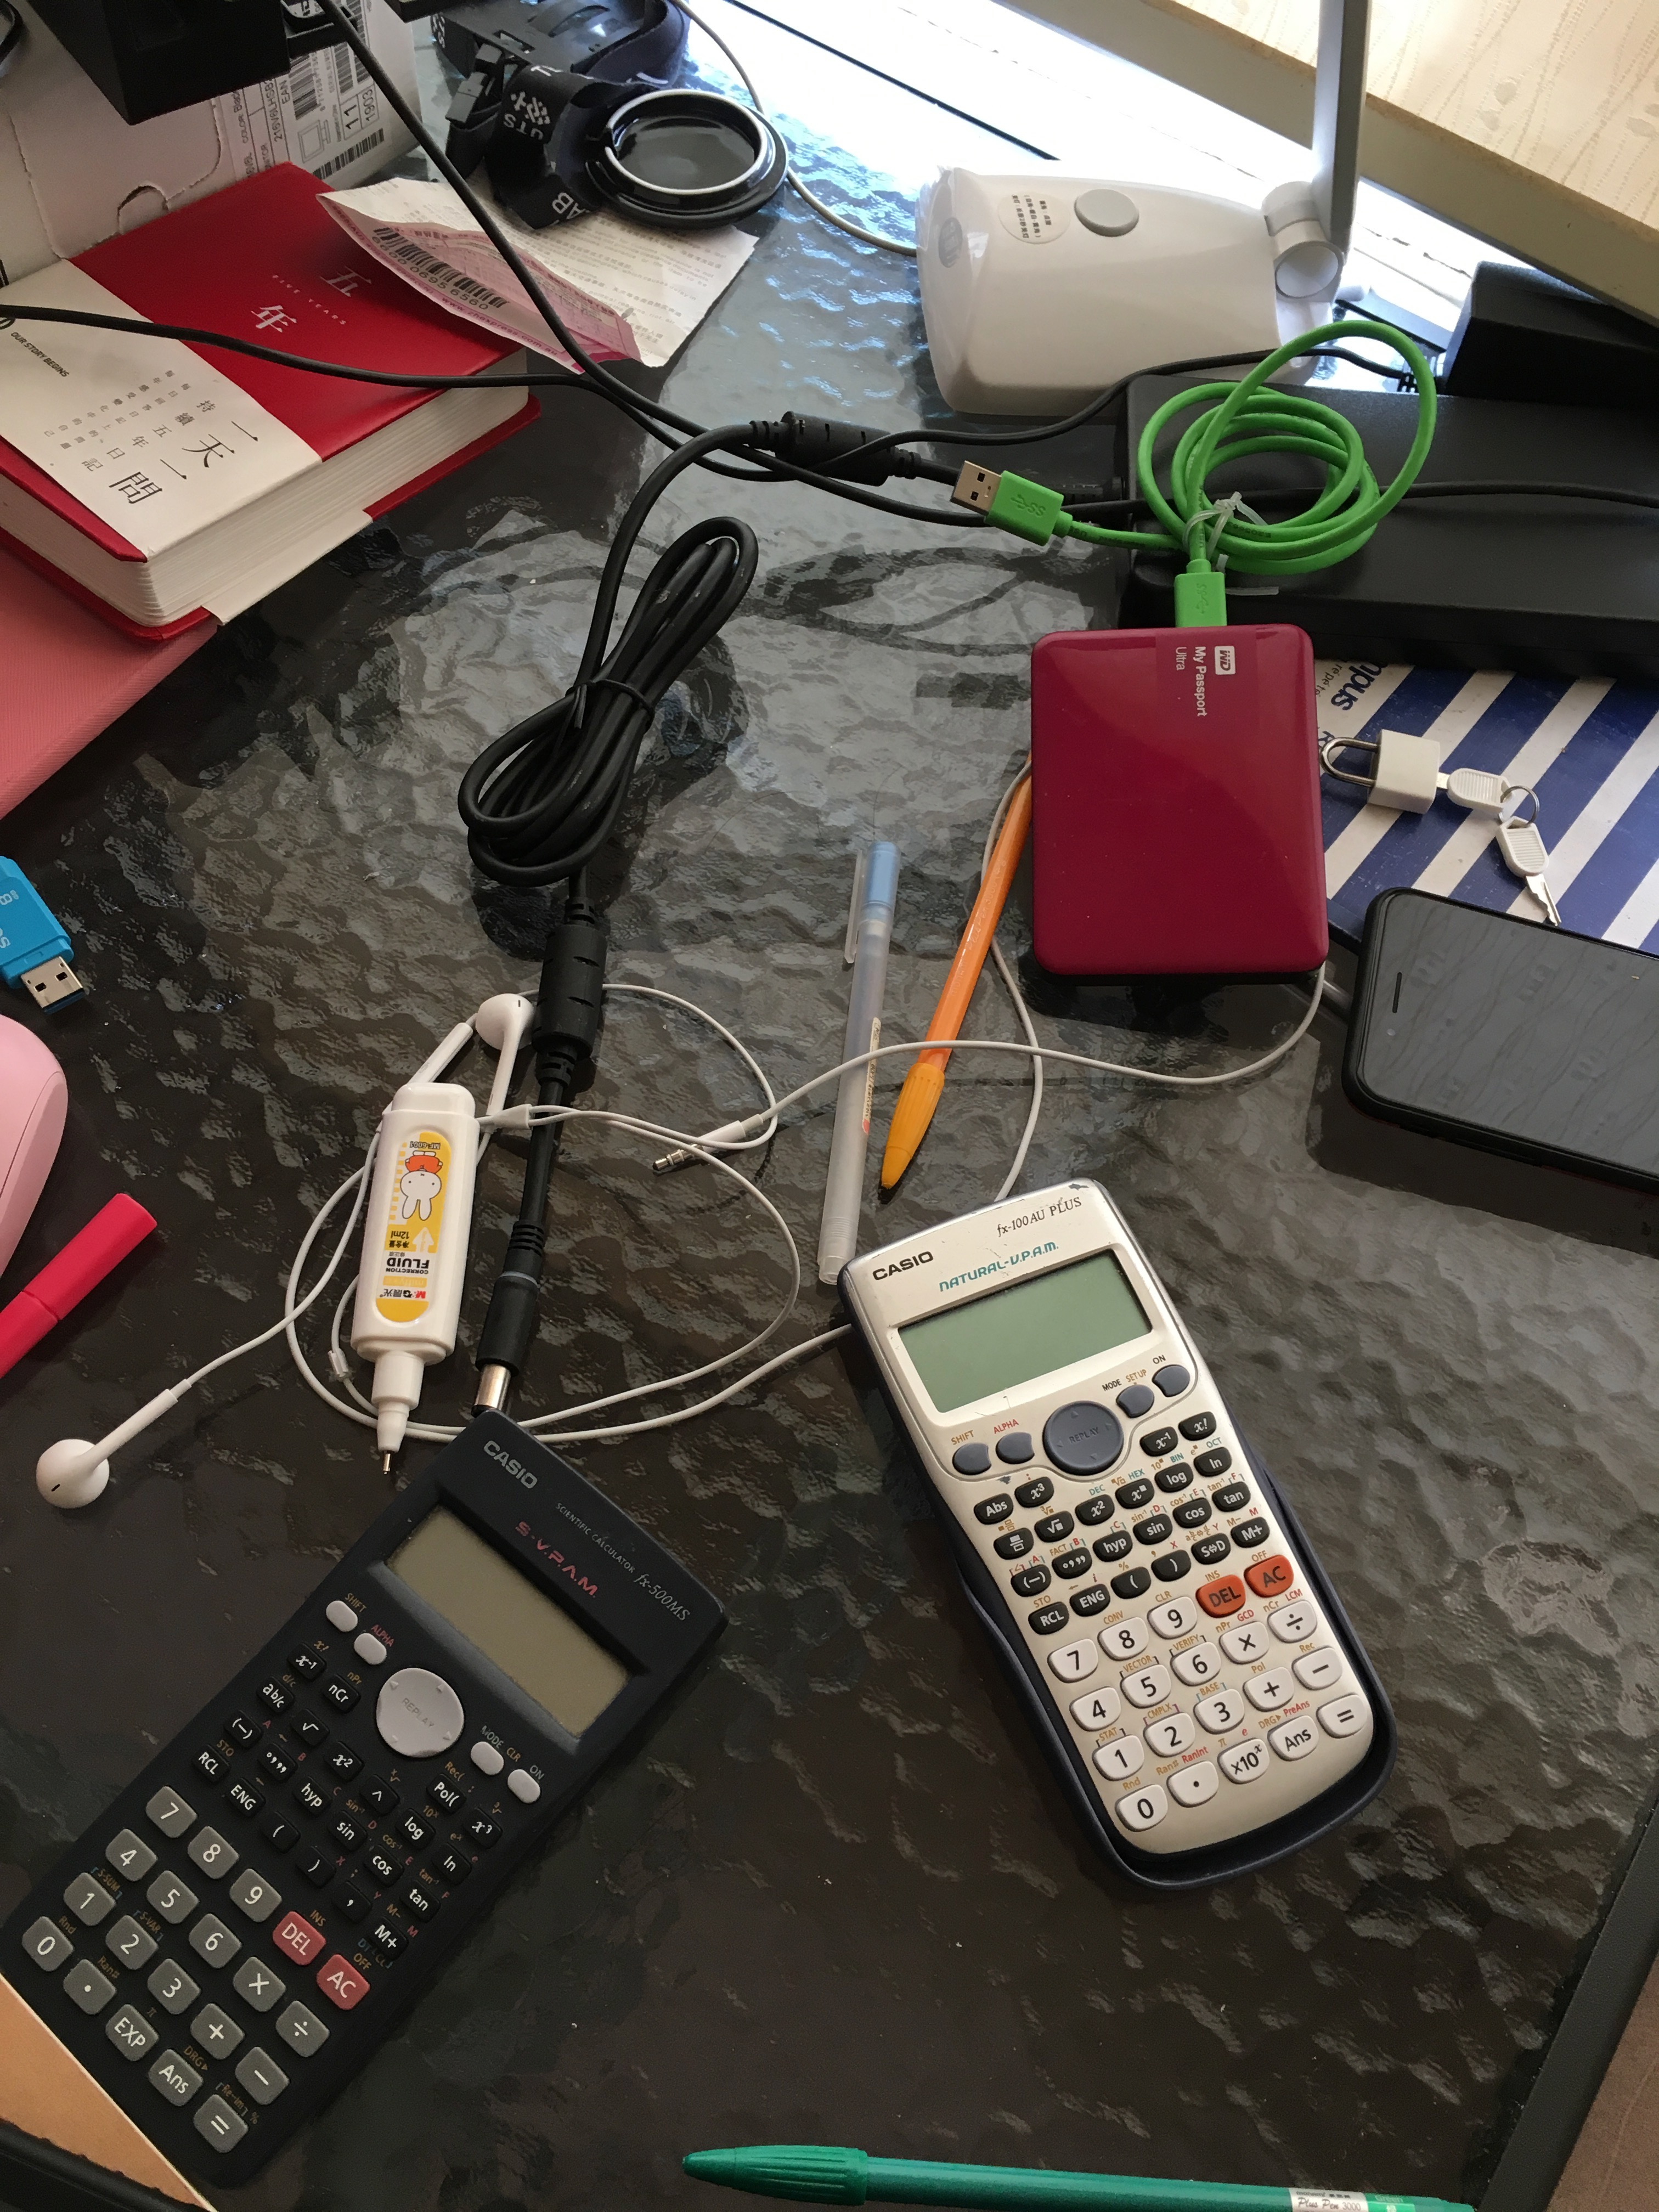Calculator: (0, 1393, 735, 2174), (823, 1174, 1408, 1905)
